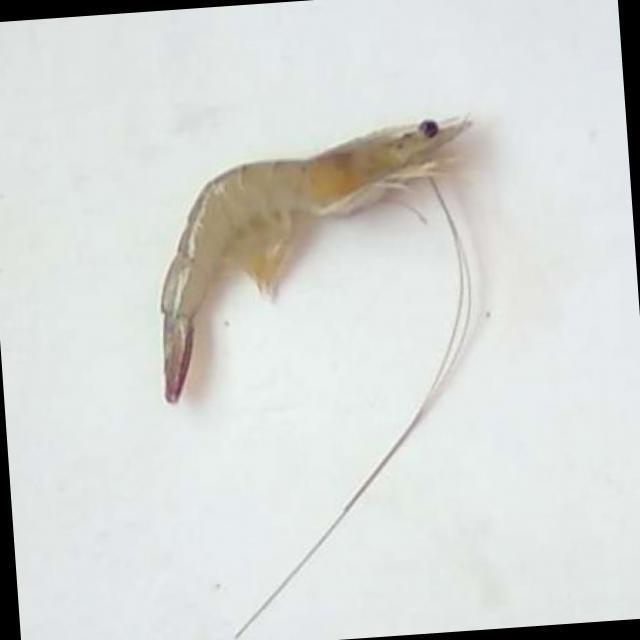shrimp: (161, 117, 472, 403)
